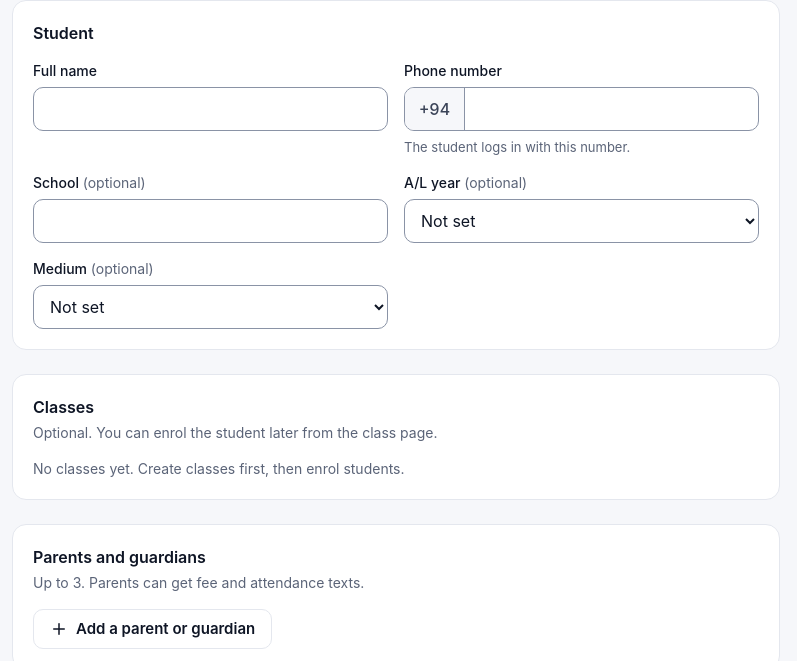
Test: StudentForm › limits guardians to three
Click the button "Add a parent or guardian" at [153, 629], box [33, 609, 272, 649]
(page scrolled)
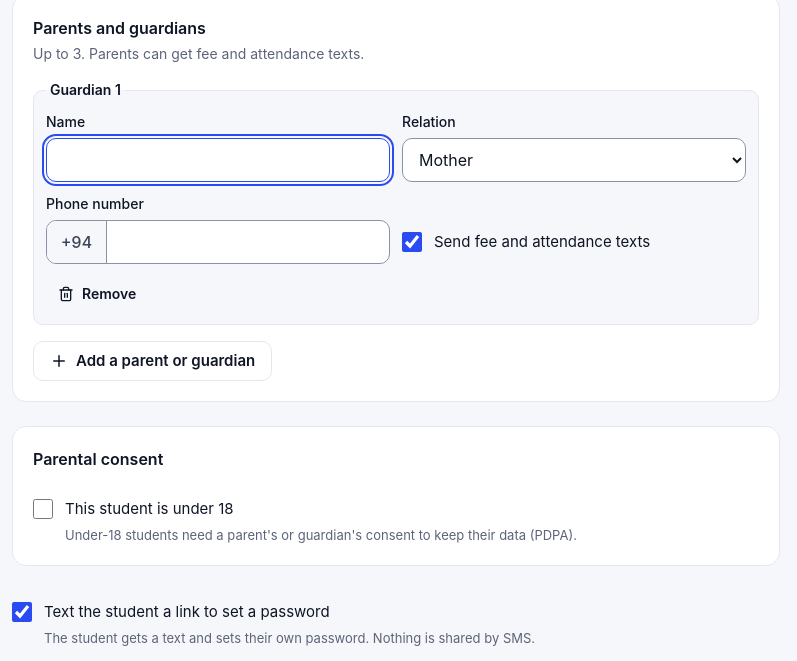
Click the button "Add a parent or guardian" at [153, 361], box [33, 341, 272, 381]
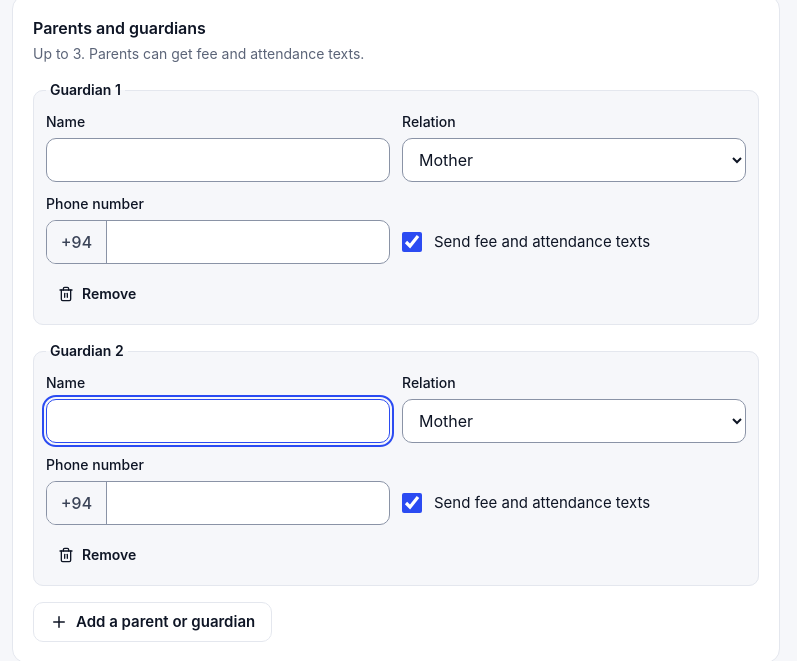
Click the button "Add a parent or guardian" at [153, 622], box [33, 602, 272, 642]
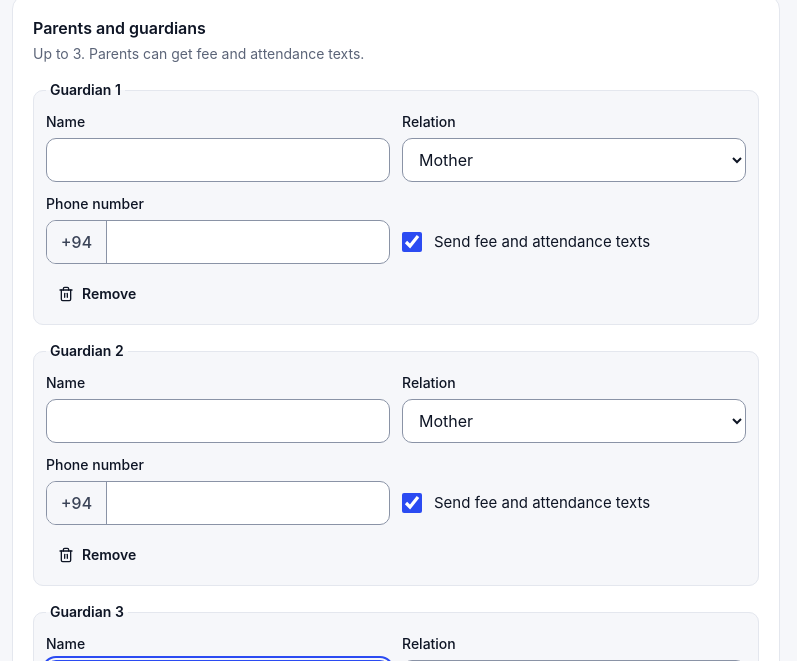
Now the text "Guardian 1" is shown 3 times, box [46, 80, 125, 100]; [46, 341, 128, 361]; [46, 602, 128, 622]
Now the button "Add a parent or guardian" is gone
